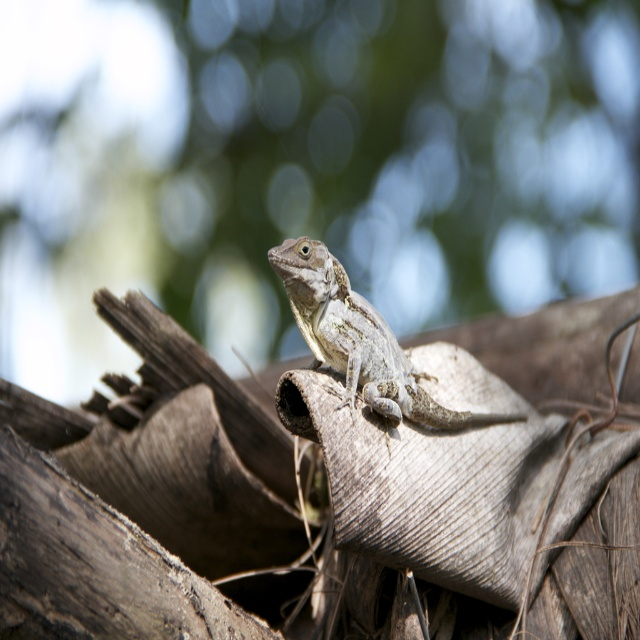Lizard: (261, 234, 497, 485)
